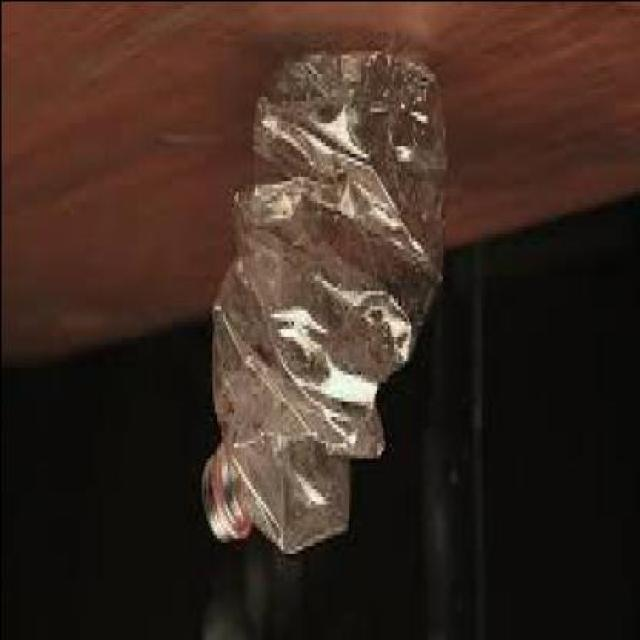PLASTIC: (196, 42, 444, 560)
